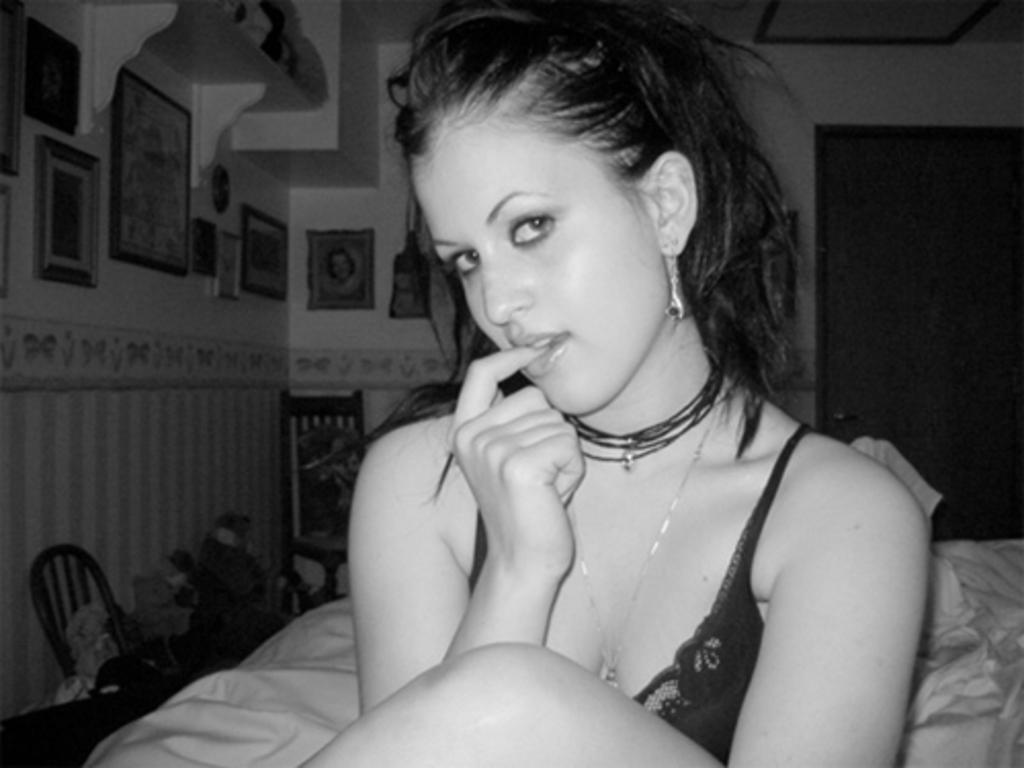Chair: (276, 388, 366, 616)
